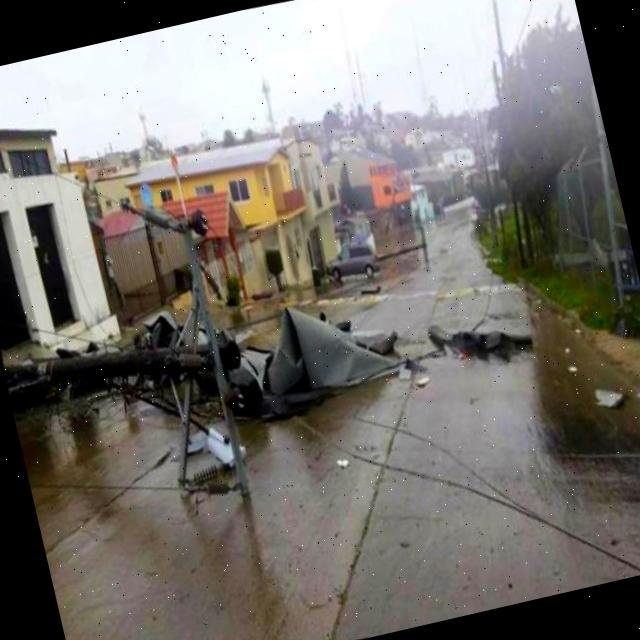Broken Pole: (3, 208, 254, 501)
